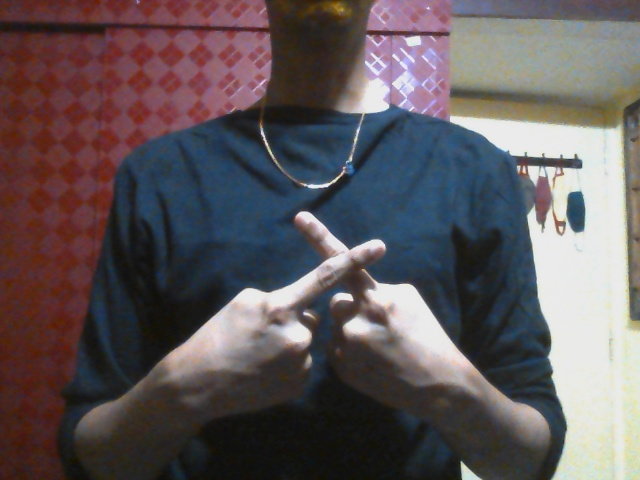X: (178, 211, 450, 414)
